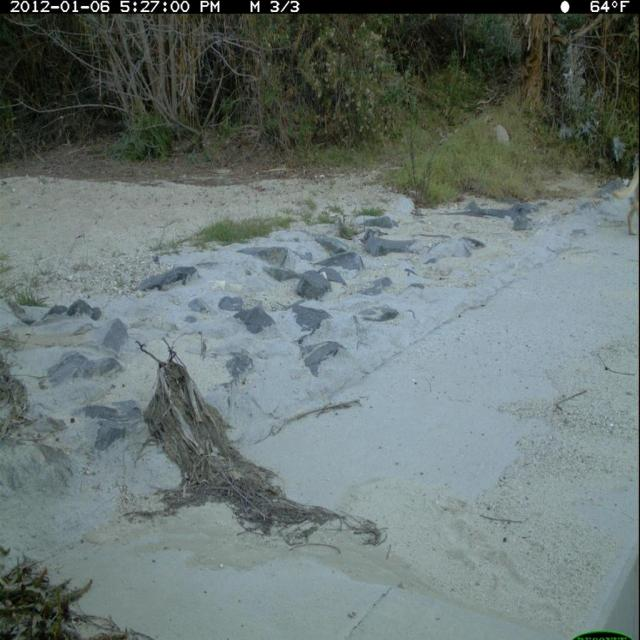dog: (597, 152, 640, 235)
